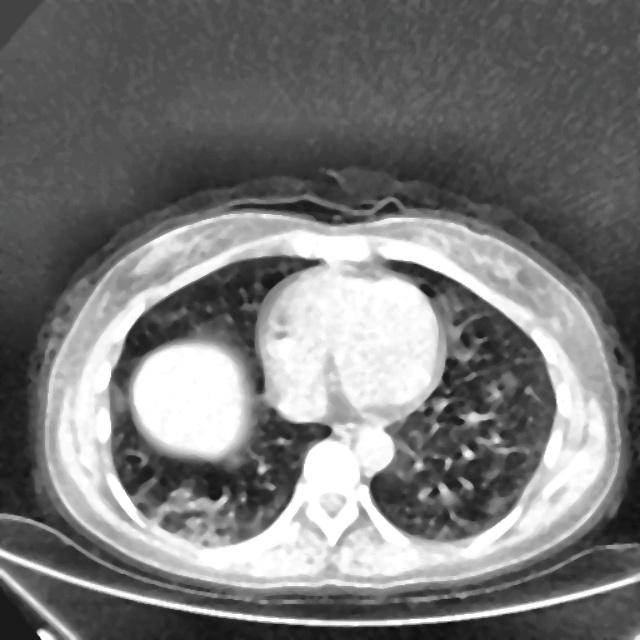covid: (28, 173, 633, 600)
